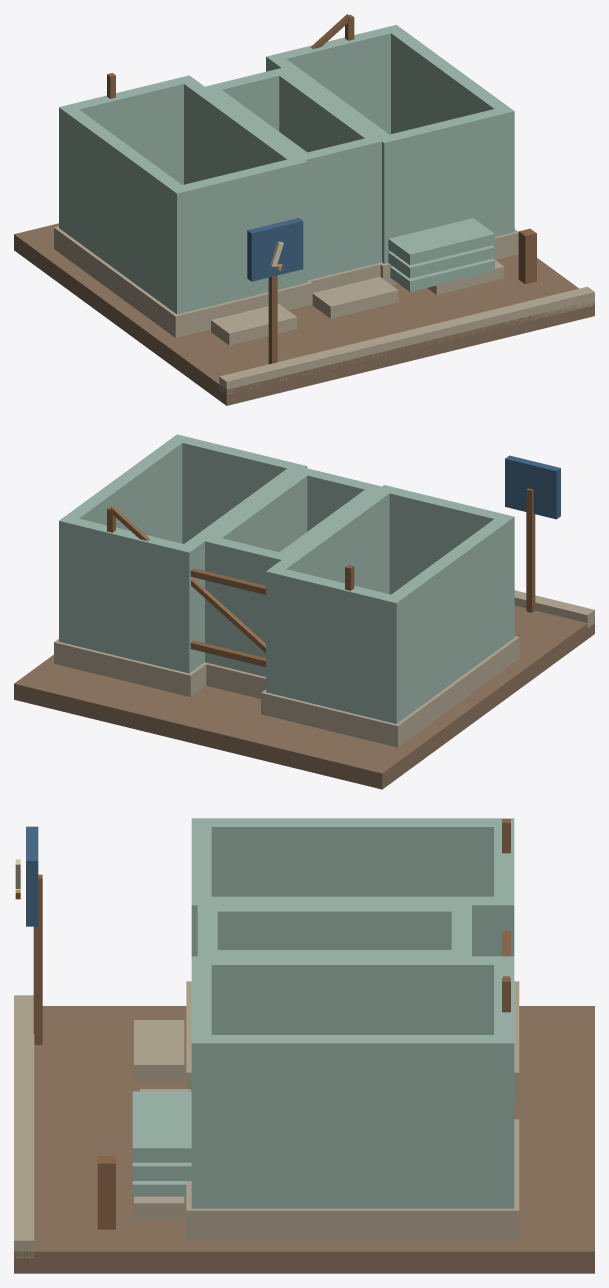
The model's file is school-seabreeze-half-built.glb.
3 views of the same model, one above another, from view 1: azimuth 30°, elevation 25°; view 2: azimuth 150°, elevation 25°; view 3: azimuth 270°, elevation 25° (orthographic). The views are drawn at different scales.
Parts seen in each view (by area): view 1: school; view 2: school; view 3: school.
Boxes of the visible parts, left/top/right/bottom form: school: left=14, top=14, right=594, bottom=405; school: left=14, top=434, right=594, bottom=789; school: left=14, top=818, right=594, bottom=1273.
Bounding box in the file's own units: 2.88 × 1.38 × 2.88.
